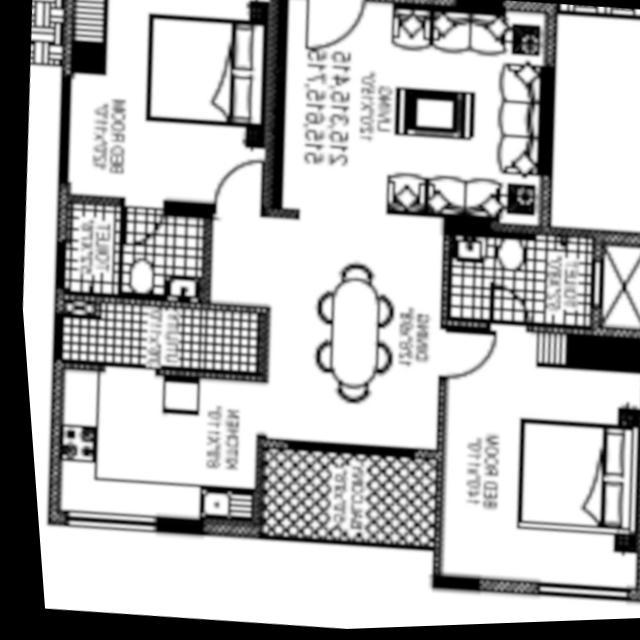Balcony-Sitout: (246, 435, 436, 555)
Bedroom: (52, 0, 285, 213)
Bedroom with Toilet: (423, 223, 637, 600)
Dining: (302, 258, 399, 409)
Kitchen: (38, 358, 262, 540)
Living: (256, 0, 554, 236)
Toilet: (438, 221, 602, 341), (53, 190, 210, 303)
Utility: (49, 291, 264, 385)
